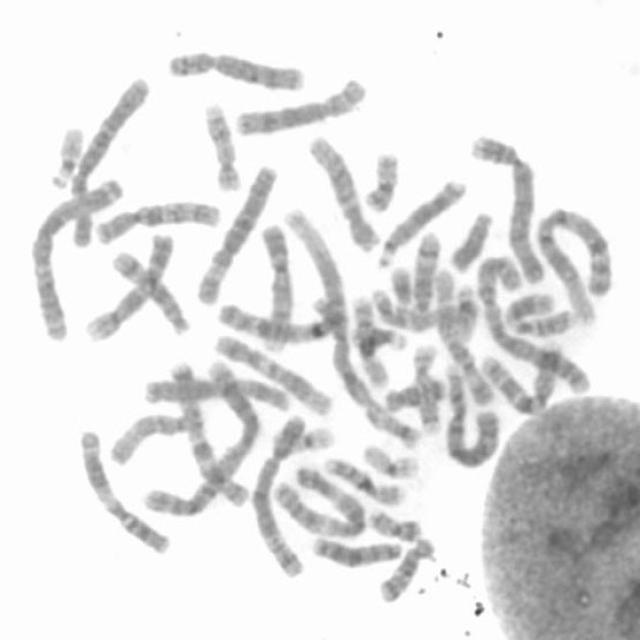A1: (212, 206, 350, 347), (530, 202, 616, 326)
A2: (136, 354, 256, 515), (472, 249, 596, 395)
A3: (27, 170, 128, 343), (268, 466, 368, 538)
B4: (464, 125, 546, 286), (441, 357, 504, 470)
B5: (306, 286, 426, 452), (248, 409, 308, 580)
C10: (88, 194, 225, 246), (366, 283, 461, 332)
C11: (75, 423, 176, 558), (500, 290, 578, 338)
C12: (209, 327, 337, 418), (304, 128, 383, 254)
C6: (63, 70, 153, 248), (195, 159, 282, 307)
C7: (140, 353, 258, 514), (477, 336, 564, 416)
C8: (228, 71, 369, 138), (162, 44, 308, 93)
C9: (80, 226, 177, 344), (258, 216, 297, 352)
D13: (371, 172, 469, 269), (306, 530, 406, 570)
D14: (107, 244, 194, 337), (407, 226, 444, 315)
D15: (103, 403, 203, 468), (366, 283, 461, 332)
E16: (318, 450, 408, 507), (346, 290, 391, 390)
E17: (200, 98, 243, 192), (408, 338, 445, 435)
E18: (374, 532, 437, 604), (378, 372, 449, 414)
F19: (358, 438, 421, 481), (279, 420, 337, 455)
F20: (358, 145, 401, 214), (364, 502, 422, 542)
G21: (448, 279, 478, 341), (386, 259, 416, 309)
G22: (44, 119, 86, 190), (352, 322, 407, 355)
X: (140, 371, 294, 413)
Y: (445, 204, 497, 273)
